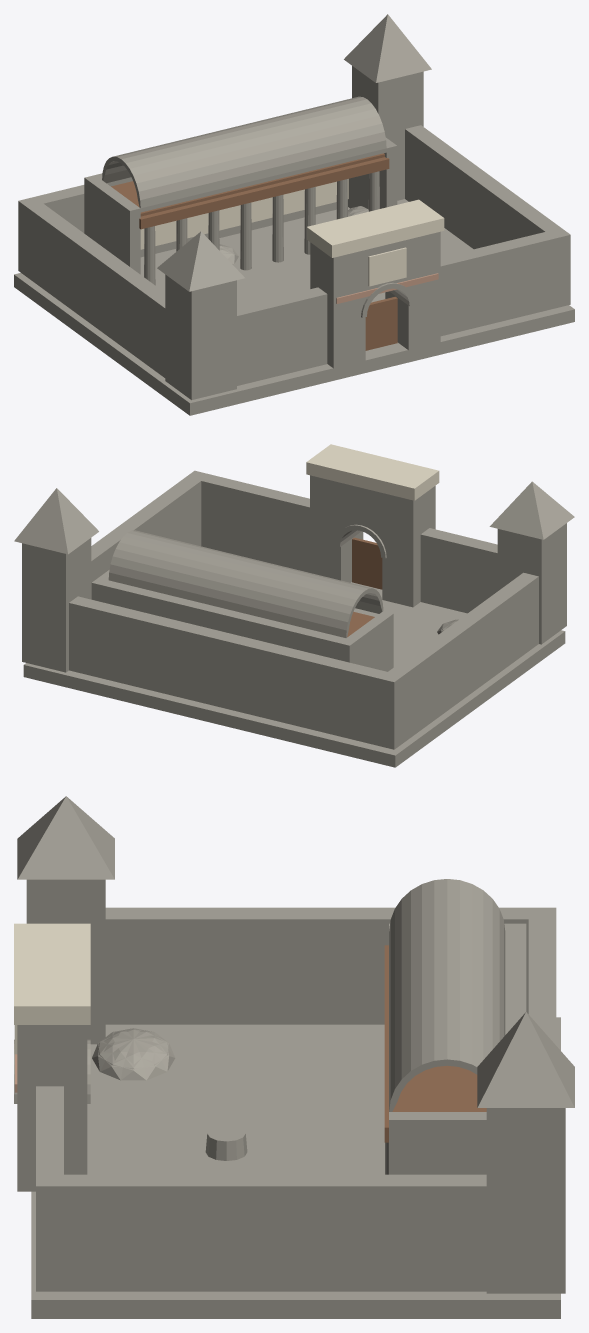
Rendered from site.glb.
3 renders of one model, top to bottom at view 1: azimuth 30°, elevation 25°; view 2: azimuth 150°, elevation 25°; view 3: azimuth 270°, elevation 25°, orthographic. The views are drawn at different scales.
Visible parts, largest first — view 1: Wall_W, Hall_Vault, Wall_S_E, Foundation, Wall_E, Tower_SW, Wall_S_W, Courtyard_Floor, Gate_Spandrel, Hall_Vault_Remnant, Gate_Parapet, Tower_NE (+19 smaller); view 2: Wall_N, Wall_W, Foundation, Hall_Vault, Wall_S_E, Tower_NE, Gate_Spandrel, Hall_Wall_Back, Wall_S_W, Tower_SW, Hall_Vault_Remnant, Wall_E (+9 smaller); view 3: Wall_E, Courtyard_Floor, Wall_W, Foundation, Tower_NE, Hall_Vault, Gate_Parapet, Tower_NE_Top, Hall_Vault_Remnant, Hall_Wall_R, Tower_SW_Top, Gate_Spandrel (+9 smaller).
Boxes of the visible parts, <box> form: Wall_W: <box>27,203,165,377</box>; Hall_Vault: <box>102,116,307,212</box>; Wall_S_E: <box>440,228,570,336</box>; Foundation: <box>14,273,574,415</box>; Wall_E: <box>405,125,560,249</box>; Tower_SW: <box>165,274,236,400</box>; Wall_S_W: <box>237,287,327,385</box>; Courtyard_Floor: <box>140,199,473,306</box>; Gate_Spandrel: <box>310,231,440,323</box>; Hall_Vault_Remnant: <box>280,96,386,171</box>; Gate_Parapet: <box>306,199,444,257</box>; Tower_NE: <box>352,66,423,200</box>; Wall_N: <box>69,596,403,749</box>; Wall_W: <box>388,572,538,742</box>; Foundation: <box>23,582,565,767</box>; Hall_Vault: <box>185,549,383,637</box>; Wall_S_E: <box>186,470,309,572</box>; Tower_NE: <box>22,538,91,672</box>; Gate_Spandrel: <box>310,475,435,563</box>; Hall_Wall_Back: <box>91,578,356,664</box>; Wall_S_W: <box>420,528,497,613</box>; Tower_SW: <box>497,523,566,644</box>; Hall_Vault_Remnant: <box>108,530,210,598</box>; Wall_E: <box>91,477,201,599</box>; Wall_E: <box>64,1174,486,1291</box>; Courtyard_Floor: <box>87,1024,384,1174</box>; Wall_W: <box>105,907,528,1024</box>; Foundation: <box>31,1017,560,1318</box>; Tower_NE: <box>486,1108,565,1293</box>; Hall_Vault: <box>389,879,505,1053</box>; Gate_Parapet: <box>14,923,90,1024</box>; Tower_NE_Top: <box>477,1012,574,1107</box>; Hall_Vault_Remnant: <box>389,1001,502,1111</box>; Hall_Wall_R: <box>389,1112,486,1174</box>; Tower_SW_Top: <box>17,796,114,879</box>; Gate_Spandrel: <box>17,1025,87,1124</box>.
Bounding box in the file's own units: 29.6 × 13.8 × 24.15.
